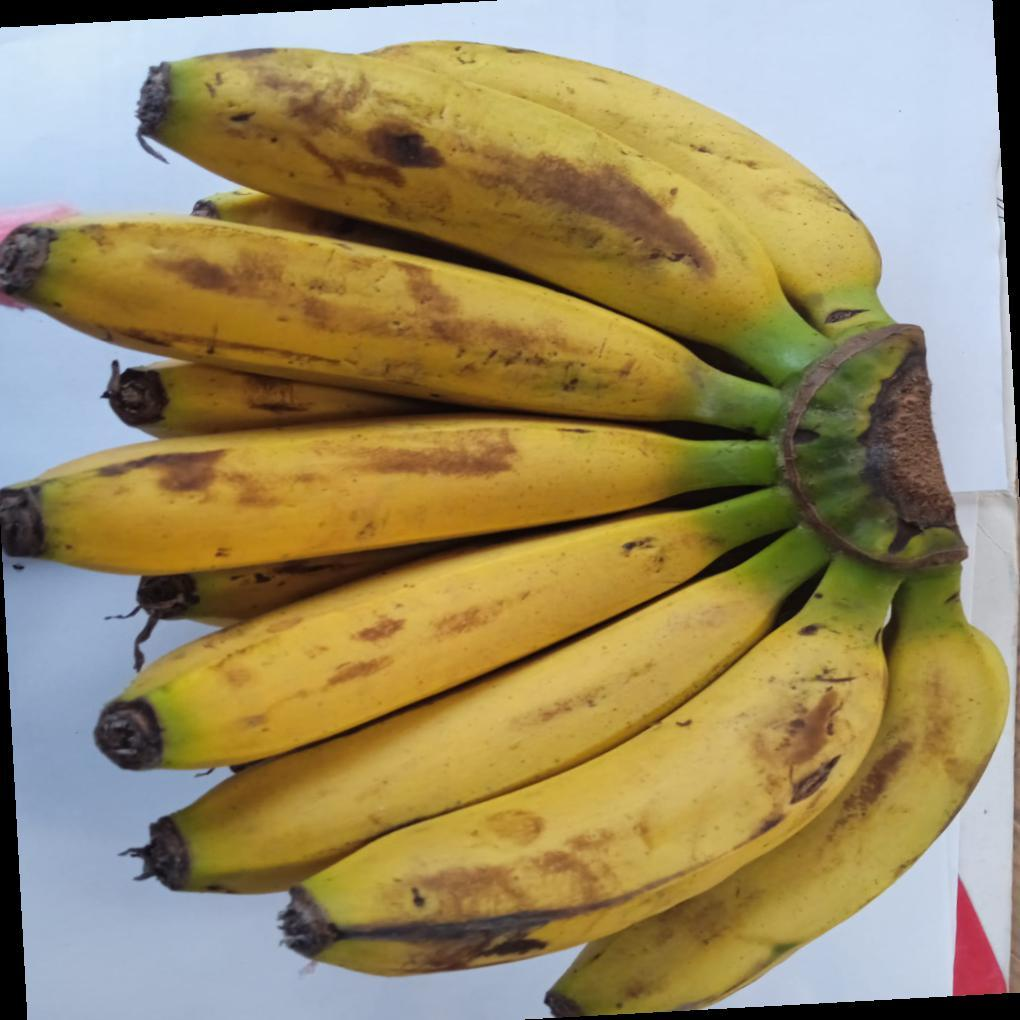Banana Ripe: (16, 45, 1019, 1020), (79, 454, 952, 1020), (22, 120, 850, 713), (130, 455, 898, 1020), (122, 4, 864, 389)
